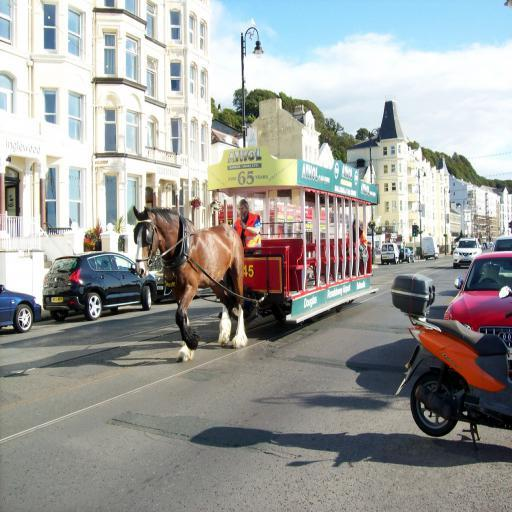Horse: (133, 203, 249, 367)
